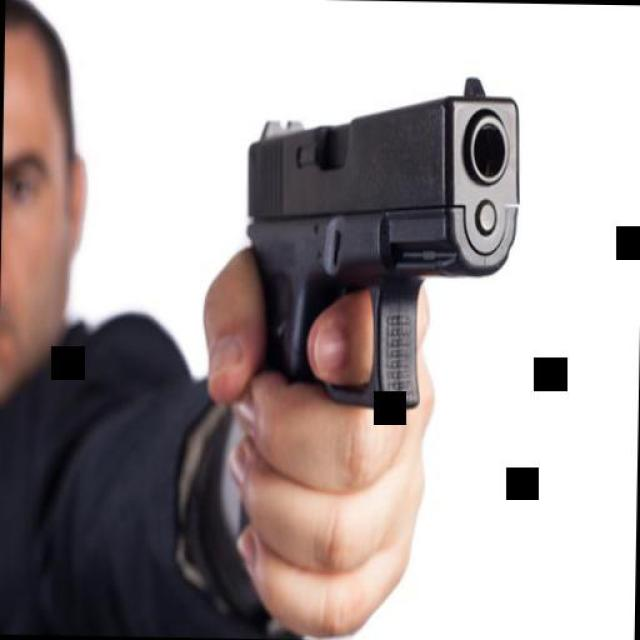gun: (237, 64, 525, 548)
